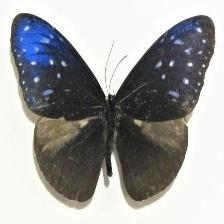butterfly: (10, 13, 215, 204)
